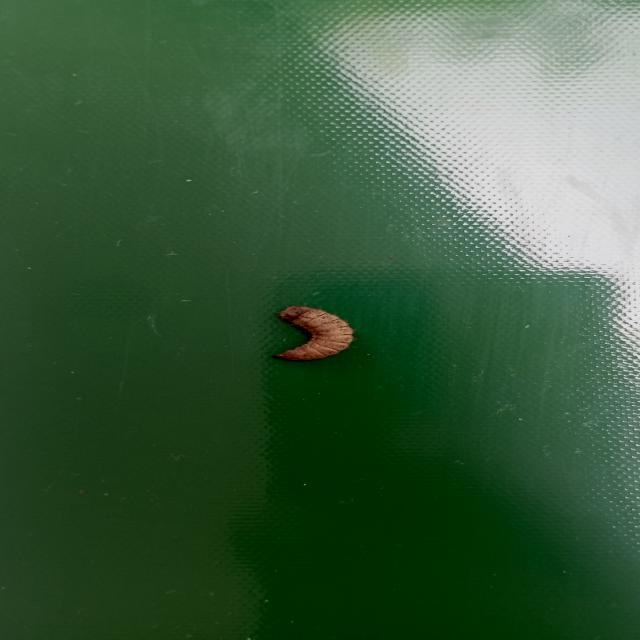Maggot: (276, 306, 355, 364)
